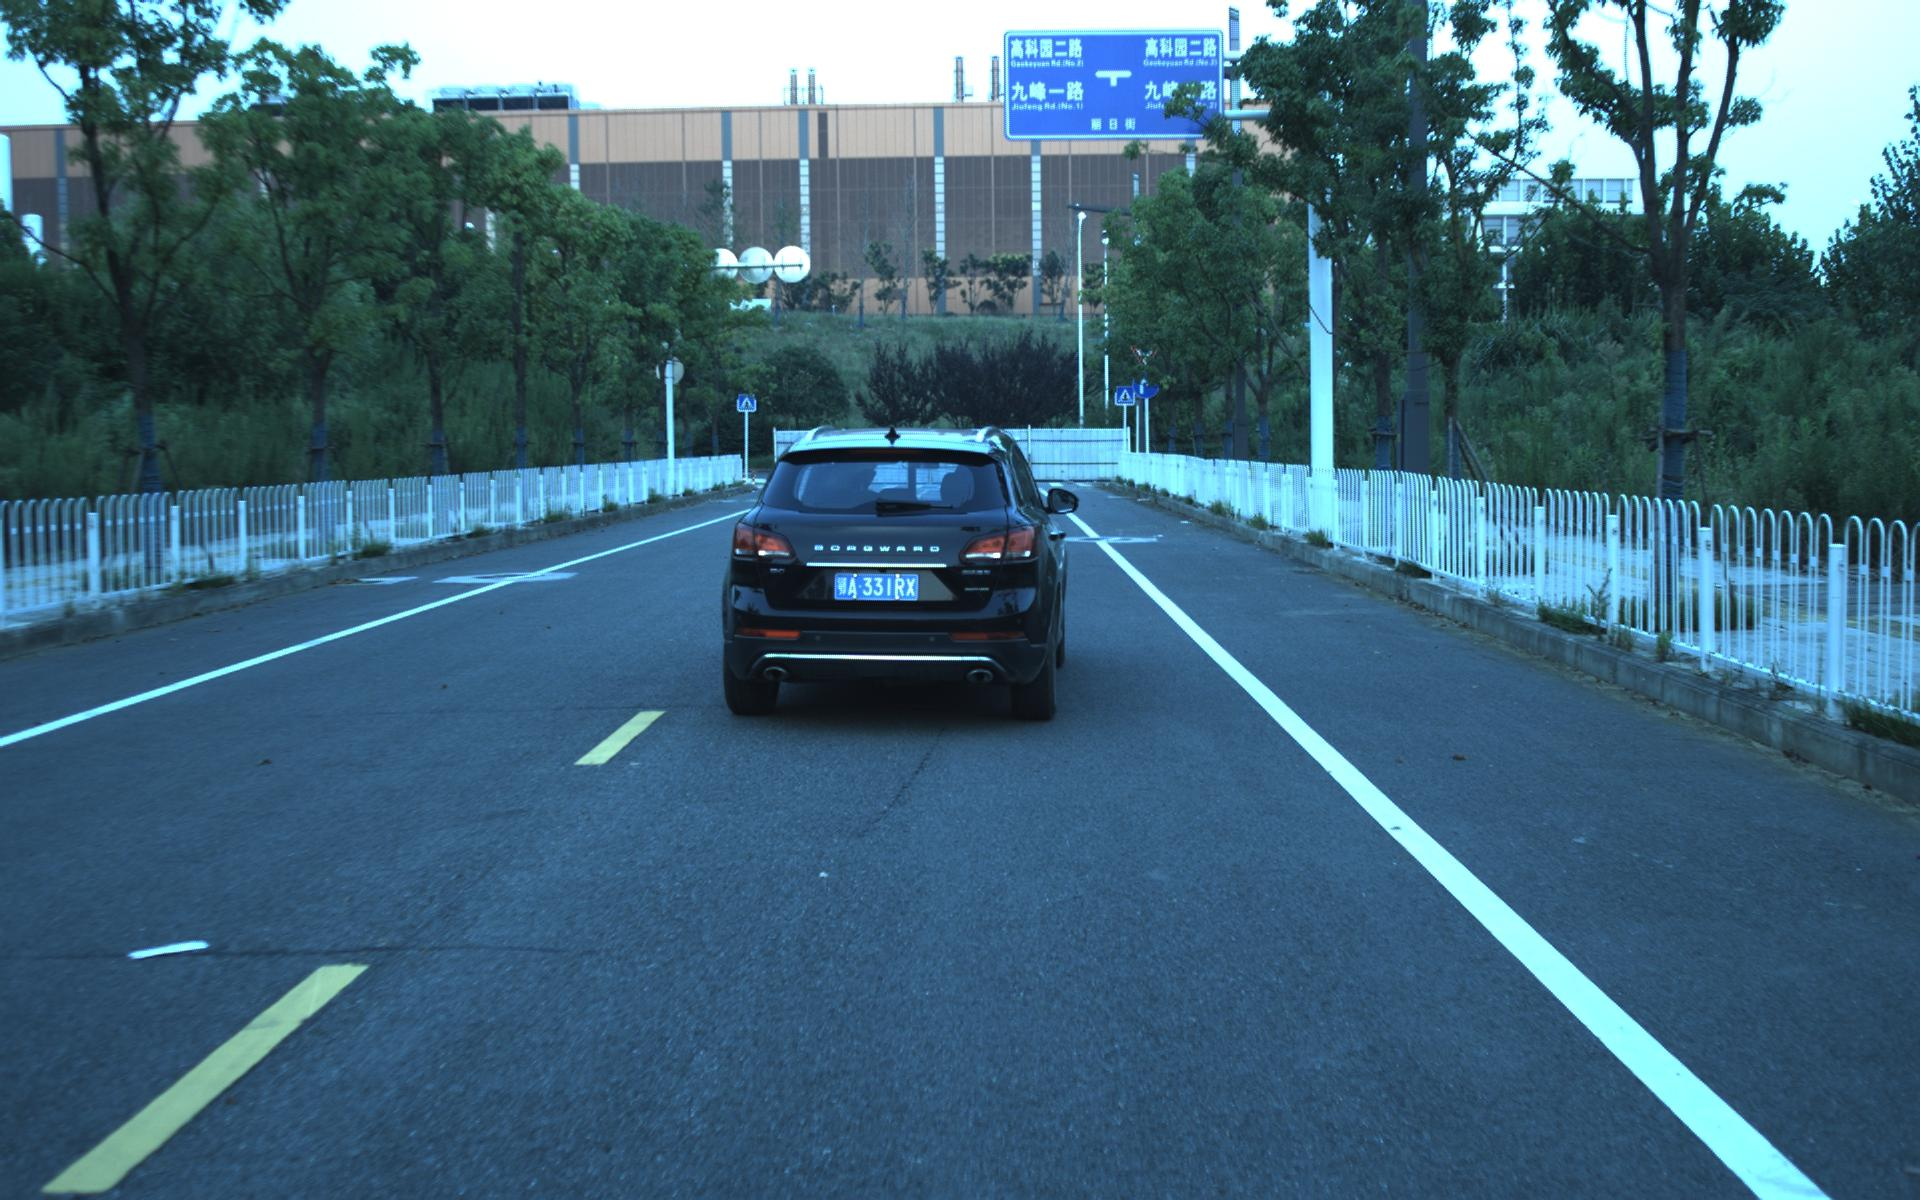Car: (716, 418, 1066, 726)
